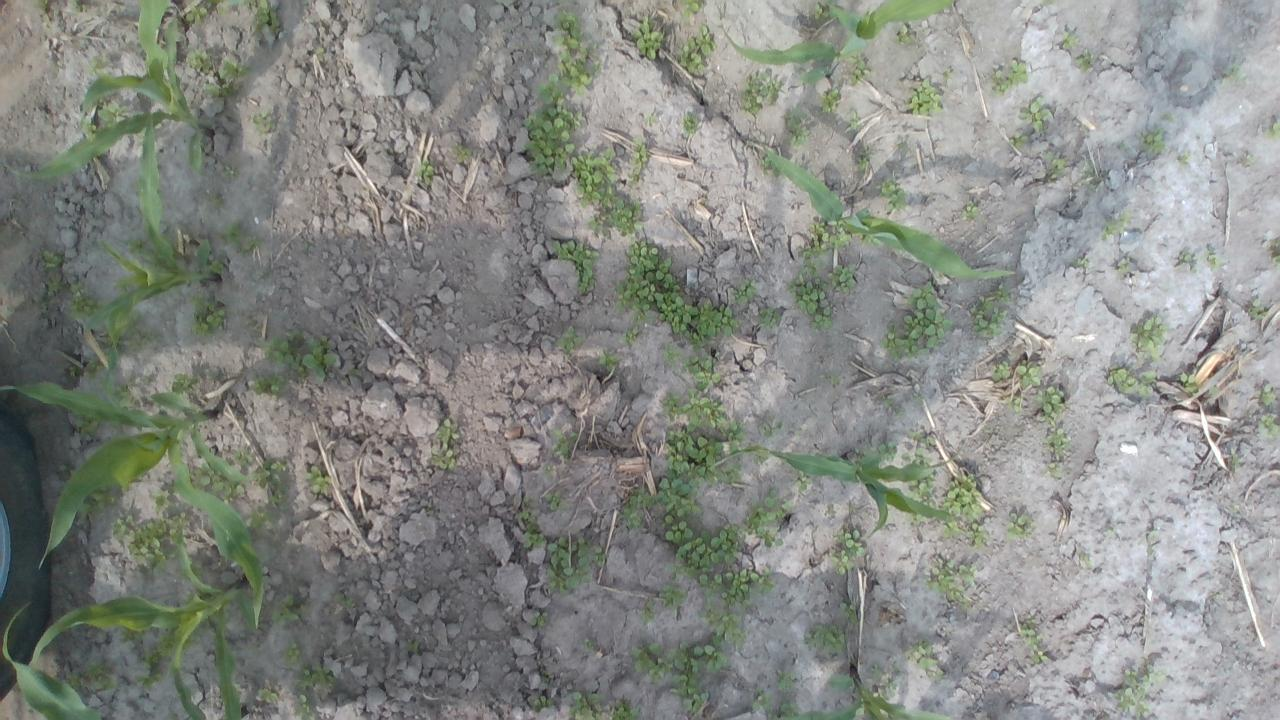Maize: (0, 368, 266, 628), (70, 109, 220, 429), (29, 534, 252, 720), (8, 0, 215, 181), (762, 145, 1015, 286), (0, 598, 252, 720), (704, 444, 962, 538), (720, 0, 959, 89), (770, 661, 952, 720)
Weeds: (611, 238, 739, 353), (670, 522, 774, 610), (518, 73, 582, 178), (570, 148, 644, 238), (879, 280, 954, 362), (659, 387, 746, 454), (621, 476, 700, 544), (660, 422, 743, 486), (255, 326, 338, 386), (110, 510, 190, 572), (665, 638, 729, 714), (548, 7, 601, 97), (543, 534, 607, 596), (786, 250, 834, 330), (548, 236, 600, 295), (744, 490, 792, 548), (290, 662, 336, 720), (1116, 668, 1166, 719), (188, 459, 246, 502), (969, 282, 1011, 340), (925, 558, 977, 602), (109, 307, 158, 352), (675, 26, 717, 76), (1128, 314, 1170, 364), (204, 56, 255, 97), (694, 603, 746, 643), (940, 474, 984, 520), (1105, 365, 1158, 402), (738, 69, 782, 112), (801, 219, 852, 255), (629, 640, 672, 682), (66, 659, 118, 692), (188, 292, 226, 337), (629, 14, 665, 61), (429, 418, 460, 471), (986, 57, 1028, 96), (66, 281, 108, 320), (1040, 428, 1072, 476), (830, 530, 864, 575), (133, 648, 167, 692), (680, 354, 720, 391), (904, 78, 944, 115), (240, 0, 282, 35), (804, 621, 847, 654), (1034, 384, 1068, 424), (904, 470, 938, 509), (222, 222, 262, 255), (1019, 620, 1048, 664), (874, 176, 907, 214), (1018, 97, 1054, 131), (516, 508, 546, 548), (782, 109, 812, 148), (77, 486, 116, 515), (1134, 126, 1170, 157), (549, 426, 580, 462), (566, 690, 602, 720), (256, 455, 286, 489), (268, 594, 304, 622), (907, 637, 940, 667), (125, 238, 160, 266), (842, 50, 869, 86), (827, 262, 858, 293), (183, 0, 225, 22), (1101, 210, 1131, 240), (155, 624, 181, 658), (1005, 511, 1034, 541), (628, 137, 650, 174), (252, 374, 289, 396), (1042, 148, 1068, 179), (97, 103, 129, 128), (555, 324, 583, 352), (660, 582, 689, 608), (810, 0, 844, 22), (818, 86, 844, 114), (108, 384, 136, 410), (186, 47, 215, 72), (304, 466, 328, 496), (244, 509, 278, 530), (774, 666, 800, 692), (758, 304, 784, 330), (72, 414, 97, 441), (280, 638, 304, 666), (964, 522, 990, 547), (736, 279, 761, 305), (1016, 360, 1040, 387), (900, 447, 934, 466), (608, 701, 642, 720), (172, 373, 196, 399), (82, 55, 110, 77), (596, 348, 620, 373), (537, 490, 565, 511), (758, 154, 782, 178), (114, 626, 146, 644), (874, 677, 898, 701), (758, 420, 786, 440), (254, 684, 282, 704), (150, 492, 178, 512), (1256, 413, 1280, 436), (185, 626, 208, 650), (1178, 370, 1200, 395), (1256, 382, 1278, 407), (749, 686, 770, 712), (870, 438, 896, 459), (1246, 298, 1270, 320), (532, 692, 556, 714), (678, 0, 706, 18), (990, 358, 1011, 382), (678, 112, 698, 137), (638, 598, 657, 624), (40, 248, 64, 268), (838, 600, 858, 624), (776, 701, 800, 720), (852, 146, 869, 172), (882, 398, 904, 418), (232, 448, 254, 468), (45, 272, 63, 296), (1198, 250, 1222, 268), (332, 591, 356, 609), (251, 110, 272, 130), (1060, 30, 1081, 50), (414, 159, 435, 179), (82, 357, 102, 378), (940, 520, 962, 539), (1224, 63, 1246, 82), (910, 430, 934, 447), (661, 344, 681, 364), (1075, 48, 1091, 72), (1007, 130, 1028, 148), (453, 144, 473, 162), (793, 470, 810, 491), (896, 23, 912, 45), (204, 260, 226, 276), (1006, 395, 1026, 412), (531, 610, 551, 627), (1262, 120, 1280, 138), (1078, 162, 1096, 180), (960, 200, 977, 219), (80, 118, 96, 138), (268, 488, 286, 505), (848, 109, 862, 130), (867, 661, 881, 679), (1178, 250, 1194, 265), (223, 163, 239, 178), (406, 640, 420, 657), (1080, 552, 1093, 568), (30, 0, 50, 10), (1176, 152, 1190, 166), (1230, 453, 1240, 471), (942, 66, 954, 81), (1117, 259, 1129, 273), (582, 638, 596, 650), (1075, 257, 1089, 269), (646, 115, 658, 124), (1271, 254, 1280, 265)
